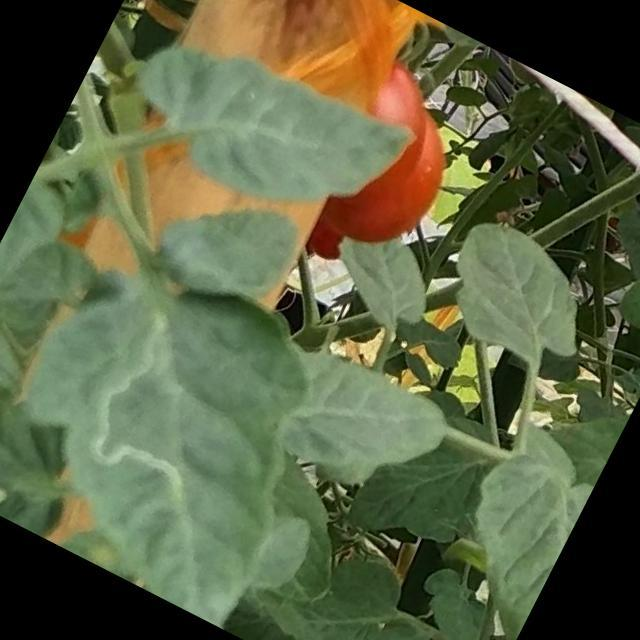Tomato healthy leaf: (108, 0, 426, 257), (424, 212, 613, 386)
Tomato target spot leaf: (0, 225, 366, 632), (0, 351, 96, 536)
